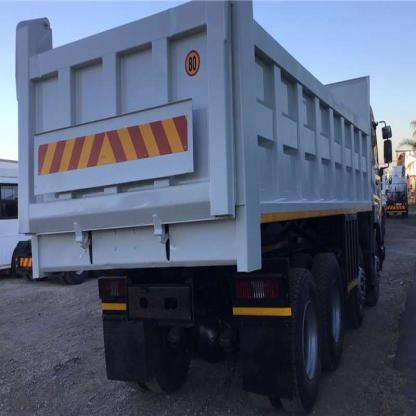dump_truck: (9, 6, 390, 416)
